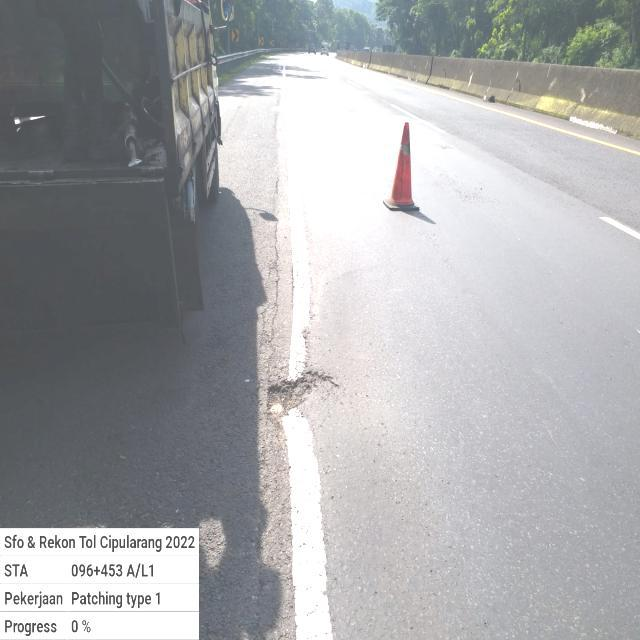Buraco: (262, 369, 342, 431)
